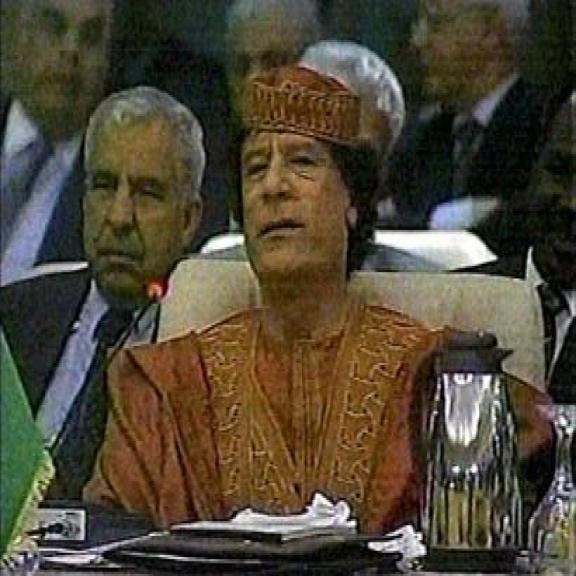face: (230, 127, 370, 288), (86, 118, 205, 302), (520, 89, 576, 298), (20, 3, 111, 130), (411, 1, 507, 104)
